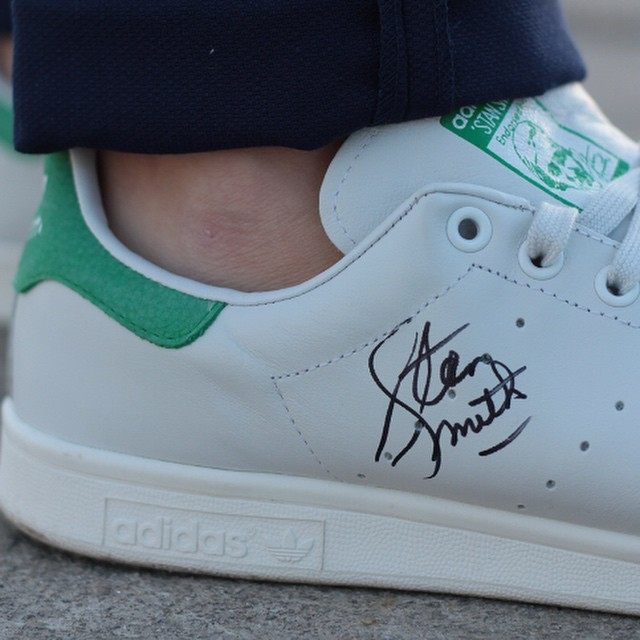sneaker: (1, 1, 640, 639)
